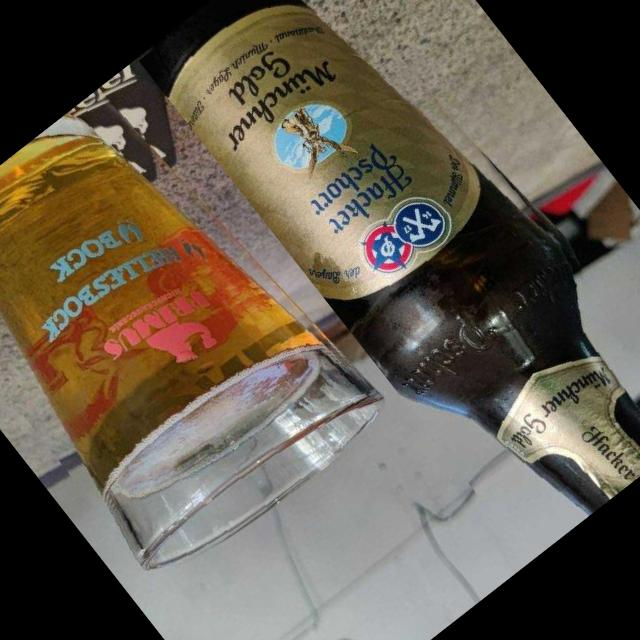Glass: (137, 0, 640, 562), (0, 67, 393, 593)
